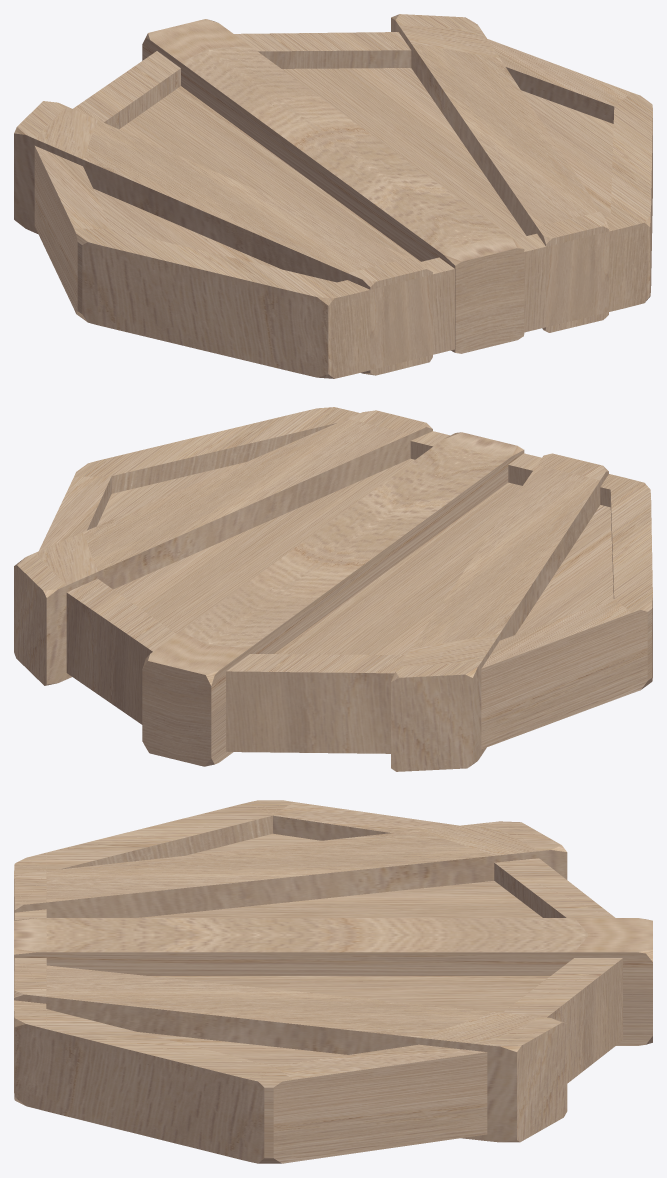
Rendered from light-vip-cirya-basic.glb.
3 renders of one model, top to bottom at view 1: azimuth 30°, elevation 25°; view 2: azimuth 150°, elevation 25°; view 3: azimuth 270°, elevation 25°, orthographic. The views are drawn at different scales.
Visible parts, largest first — view 1: Cube.001; view 2: Cube.001; view 3: Cube.001.
Part boxes in pixels (left/top/right/bottom): Cube.001: left=14, top=14, right=652, bottom=378; Cube.001: left=14, top=407, right=652, bottom=771; Cube.001: left=14, top=800, right=652, bottom=1163.
Bounding box in the file's own units: 1.99 × 0.3135 × 1.89.
Materials: 1 (1 with a texture image).
